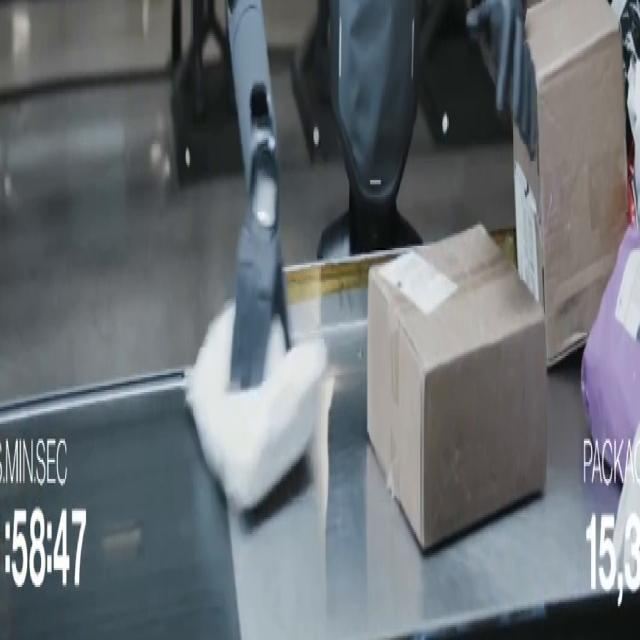package: (367, 227, 547, 548), (514, 0, 627, 366), (186, 304, 326, 508), (582, 227, 639, 481), (625, 41, 639, 226)
